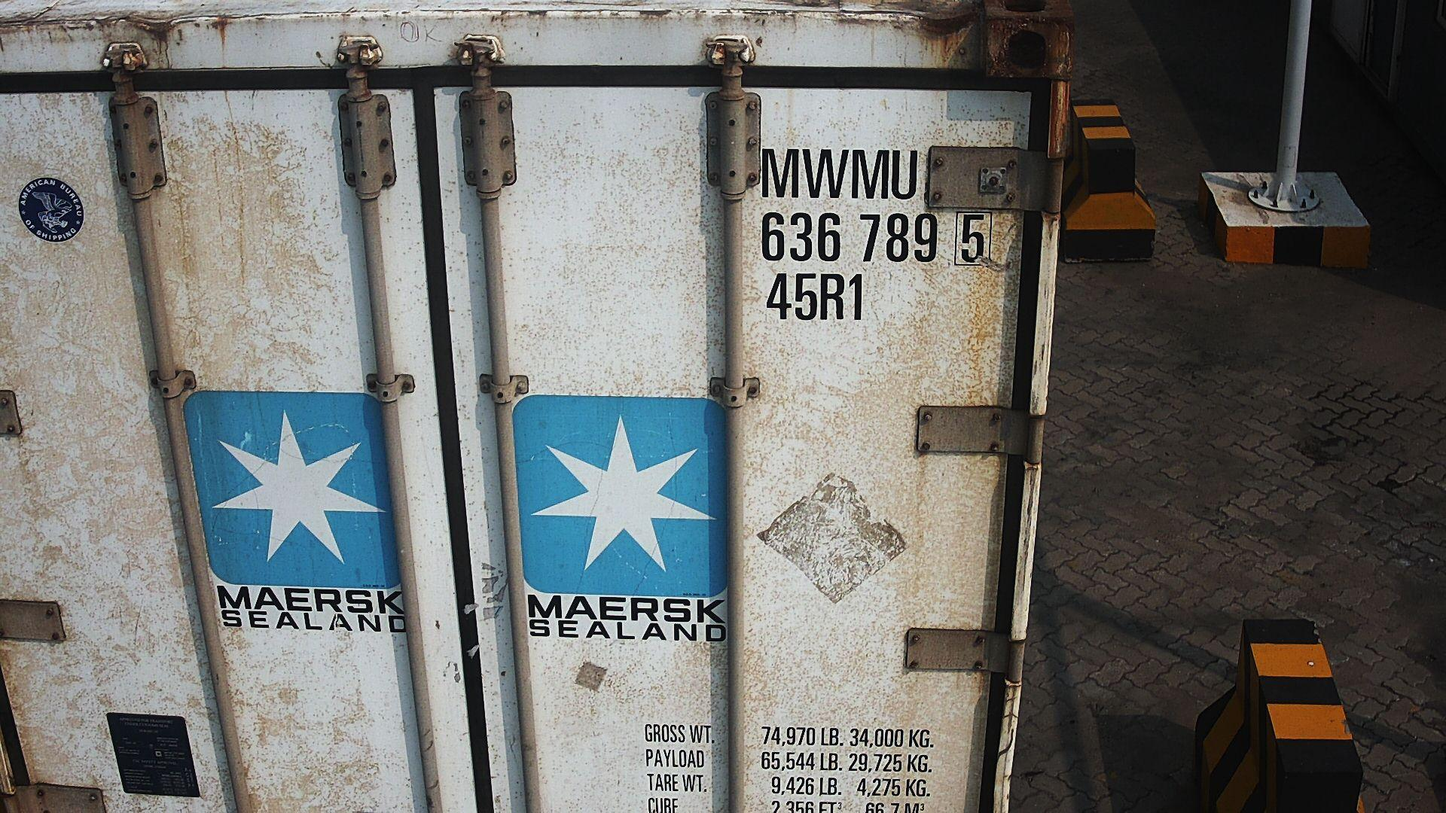container-numbers: (756, 209, 996, 271), (754, 144, 928, 203), (764, 270, 867, 324)
